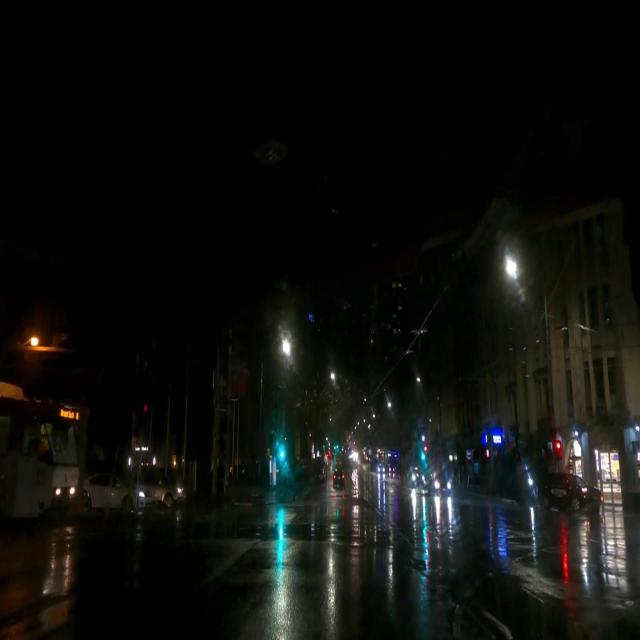Car: (536, 467, 603, 513)
